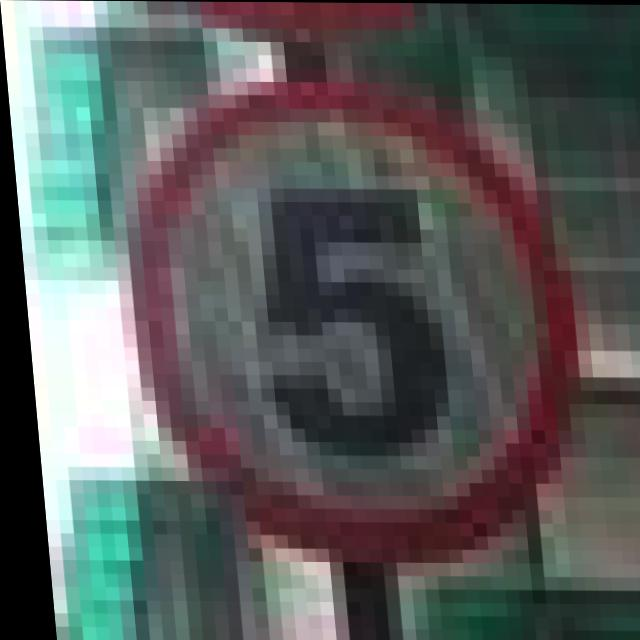SPEED_LIMIT_5: (99, 73, 593, 567)
